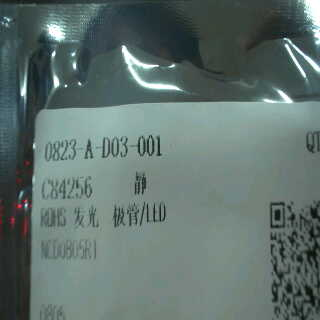LED: (66, 202, 180, 232)
